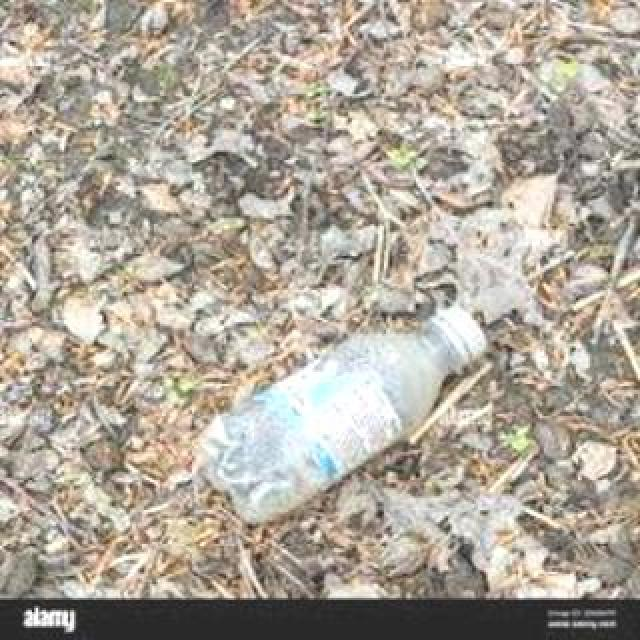Pet_Bottle: (190, 298, 492, 526)
